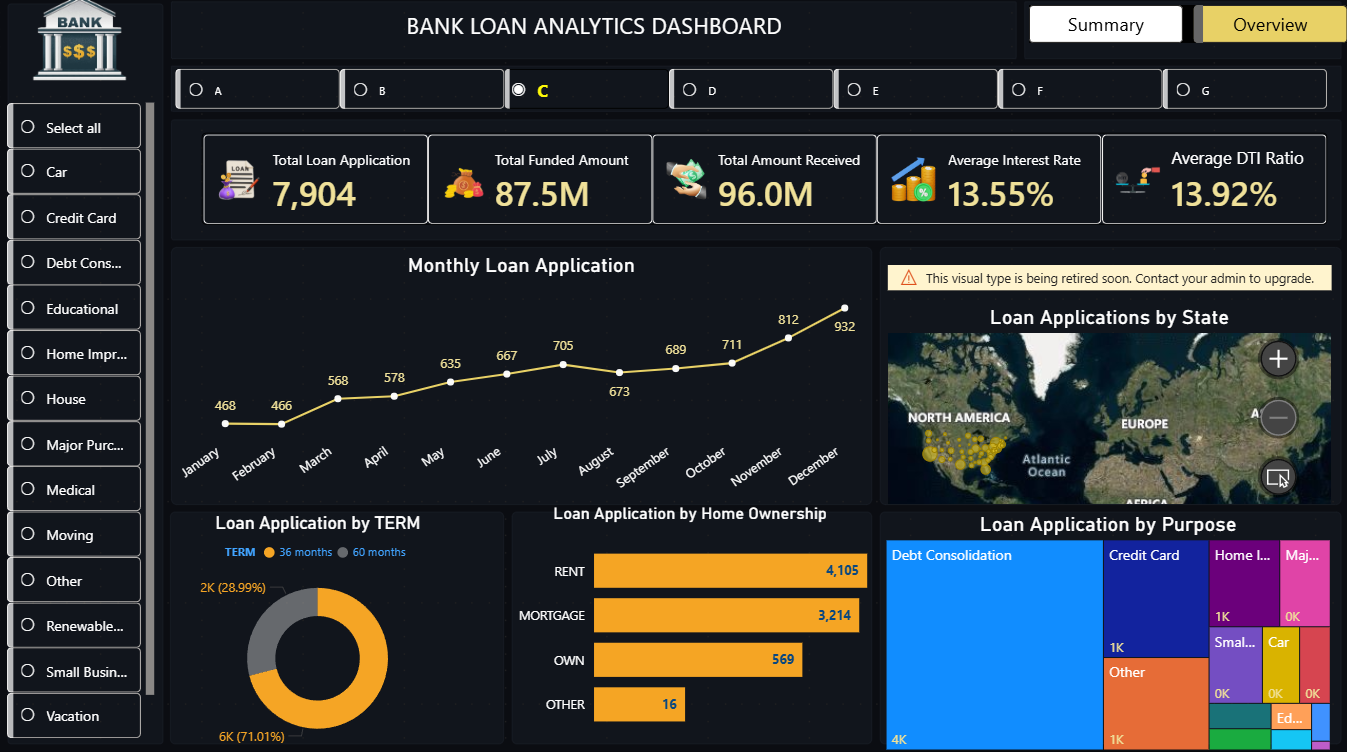

What the dashboard file says about the page in this screenshot:
{"tool":"powerbi","page":{"name":"Overview","canvas":[1280,720],"ordinal":1},"visuals":[{"type":"cardVisual","fields":{"Data":["financial_loan.Total Loan Application","financial_loan.Total Funded Amount","financial_loan.Total Amount Received","financial_loan.Average Interest Rate","financial_loan.Average DTI Ratio"]},"box":[175.3,114.1,1104.7,121],"z":0},{"type":"image","box":[0,0,153,80.7],"z":1000},{"type":"advancedSlicerVisual","fields":{"Values":["financial_loan.PURPOSE"]},"box":[2.8,97.4,150.3,623.3],"z":2000},{"type":"advancedSlicerVisual","fields":{"Values":["financial_loan.GRADE"]},"box":[162.8,65.4,1104.7,48.7],"z":3000},{"type":"shape","box":[162.8,0,804.2,55.7],"z":4000},{"type":"pageNavigator","box":[976.7,9.7,303.3,36.2],"z":5000},{"type":"lineChart","title":"Monthly Loan Application","fields":{"Category":["financial_loan.ISSUE_DATE.Variation.Date Hierarchy.Month"],"Y":["financial_loan.Total Loan Application"]},"box":[162.4,245.3,666.1,245.3],"z":6000},{"type":"donutChart","title":" Loan Application by TERM","fields":{"Category":["financial_loan.TERM"],"Y":["financial_loan.Total Loan Application"]},"box":[131.6,490.7,341.3,229.9],"z":7000},{"type":"clusteredBarChart","title":"Loan Application by Home Ownership","fields":{"Category":["financial_loan.HOME_OWNERSHIP"],"Y":["financial_loan.Total Loan Application"]},"box":[482.4,490.7,346.1,229.9],"z":8000},{"type":"treemap","title":"Loan Application by Purpose","fields":{"Group":["financial_loan.PURPOSE"],"Values":["financial_loan.Total Loan Application"]},"box":[836.7,490.7,430.2,229.9],"z":9000},{"type":"map","title":"Loan Applications by State","fields":{"Category":["financial_loan.ADDRESS_STATE"],"Size":["financial_loan.Total Loan Application"]},"box":[837.9,256,430.2,226.4],"z":10000}]}

Visuals, with their boxes on the page's 1280x720 design canvas (x1, y1, x2, y2). These are canvas units, not pixel positions in the 1347x752 screenshot, which may show the page scaled, cropped or inside an application window:
cardVisual - financial_loan.Total Loan Application x financial_loan.Total Funded Amount: rect(175, 114, 1280, 235)
image: rect(0, 0, 153, 81)
advancedSlicerVisual - financial_loan.PURPOSE: rect(3, 97, 153, 721)
advancedSlicerVisual - financial_loan.GRADE: rect(163, 65, 1268, 114)
shape: rect(163, 0, 967, 56)
pageNavigator: rect(977, 10, 1280, 46)
"Monthly Loan Application" lineChart: rect(162, 245, 828, 491)
" Loan Application by TERM" donutChart: rect(132, 491, 473, 721)
"Loan Application by Home Ownership" clusteredBarChart: rect(482, 491, 828, 721)
"Loan Application by Purpose" treemap: rect(837, 491, 1267, 721)
"Loan Applications by State" map: rect(838, 256, 1268, 482)
